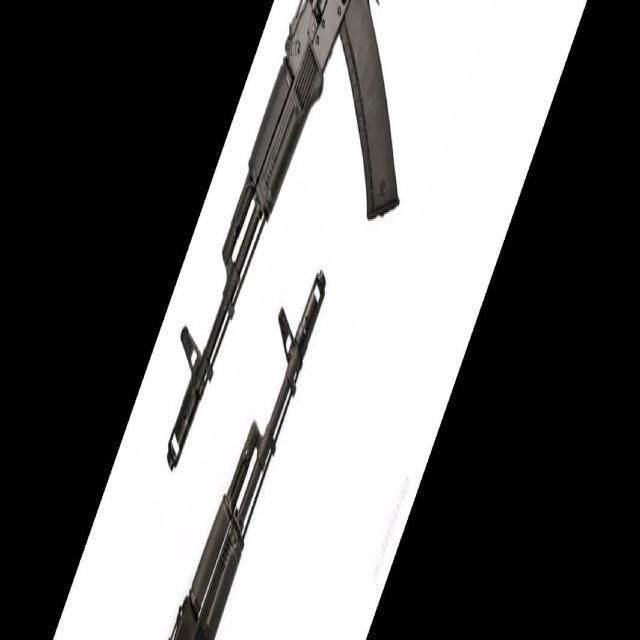weapon: (166, 0, 401, 474), (169, 267, 326, 640)
